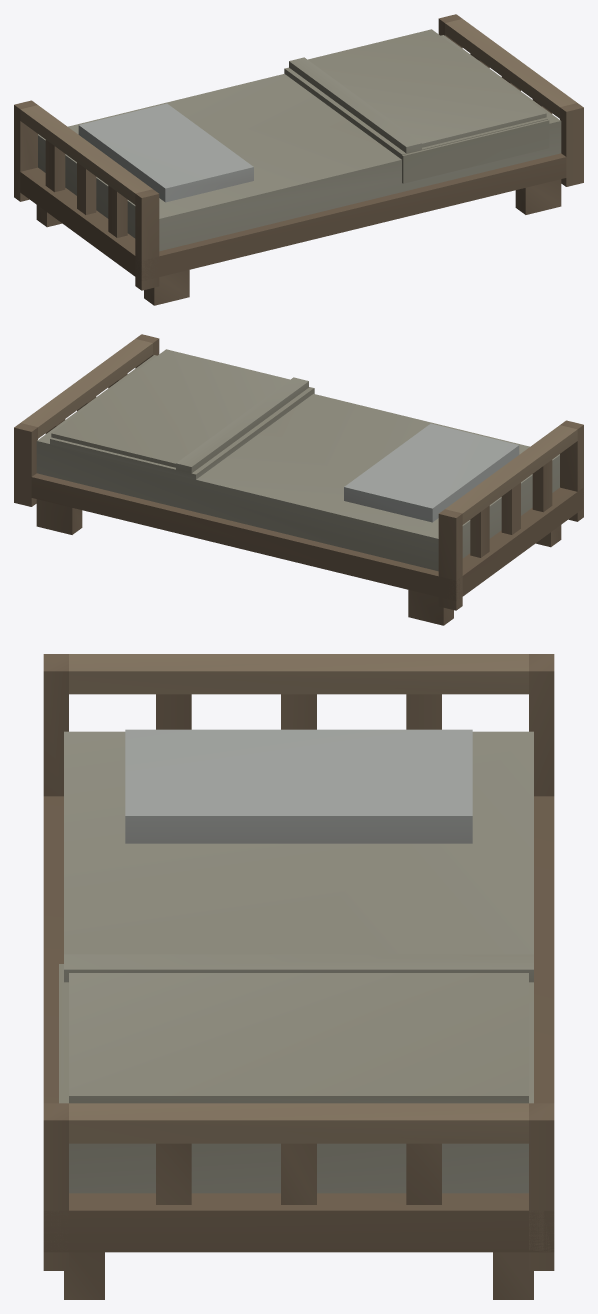
Rendered from bed.glb.
The picture shows the model from 3 angles, top to bottom: view 1: azimuth 30°, elevation 25°; view 2: azimuth 150°, elevation 25°; view 3: azimuth 270°, elevation 25°; orthographic projection. The views are drawn at different scales.
Visible parts, largest first — view 1: bed; view 2: bed; view 3: bed.
Boxes of the visible parts, <box> form: bed: <box>14,14,583,305</box>; bed: <box>14,334,583,625</box>; bed: <box>43,654,554,1299</box>.
Size of the model in its own units: 2 by 0.5 by 1.
